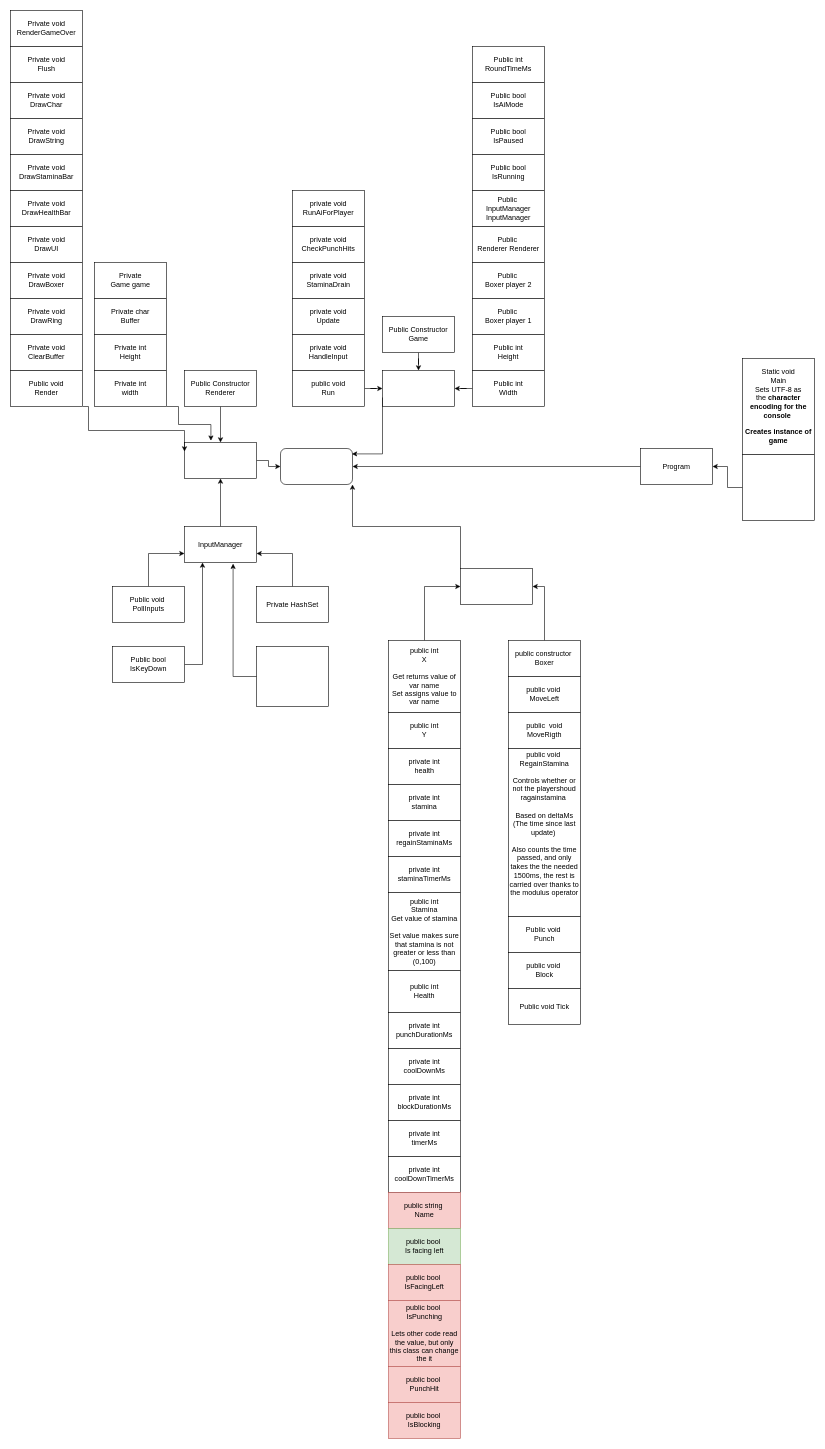
Image size: 825x1449. Some labels were removed from this diagram. Each missing label, with the box of its shape:
Boxer: (460, 568, 532, 604)
BOXING MANIA: (280, 448, 352, 484)
Game.cs: (382, 370, 454, 406)
internal IsKeyDown Only accesable within the same asembly files: (256, 646, 328, 706)
Private static void PrintBlue colors banner string blue: (742, 454, 814, 520)
Renderer: (184, 442, 256, 478)
